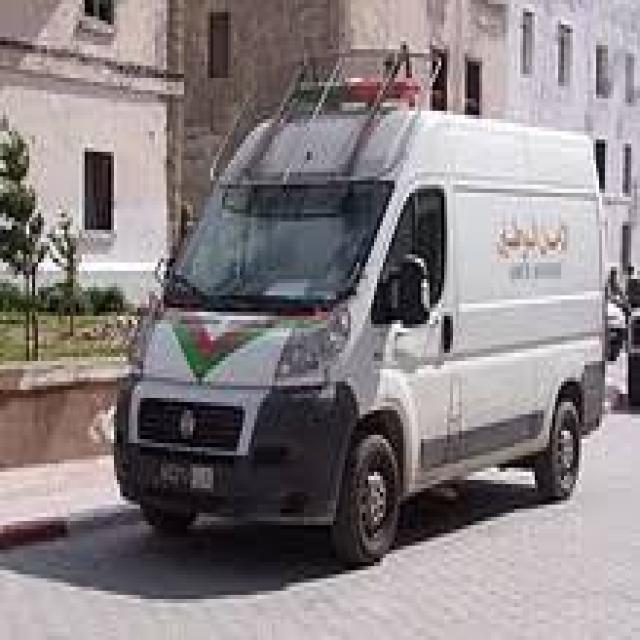Police car: (111, 37, 611, 576)
